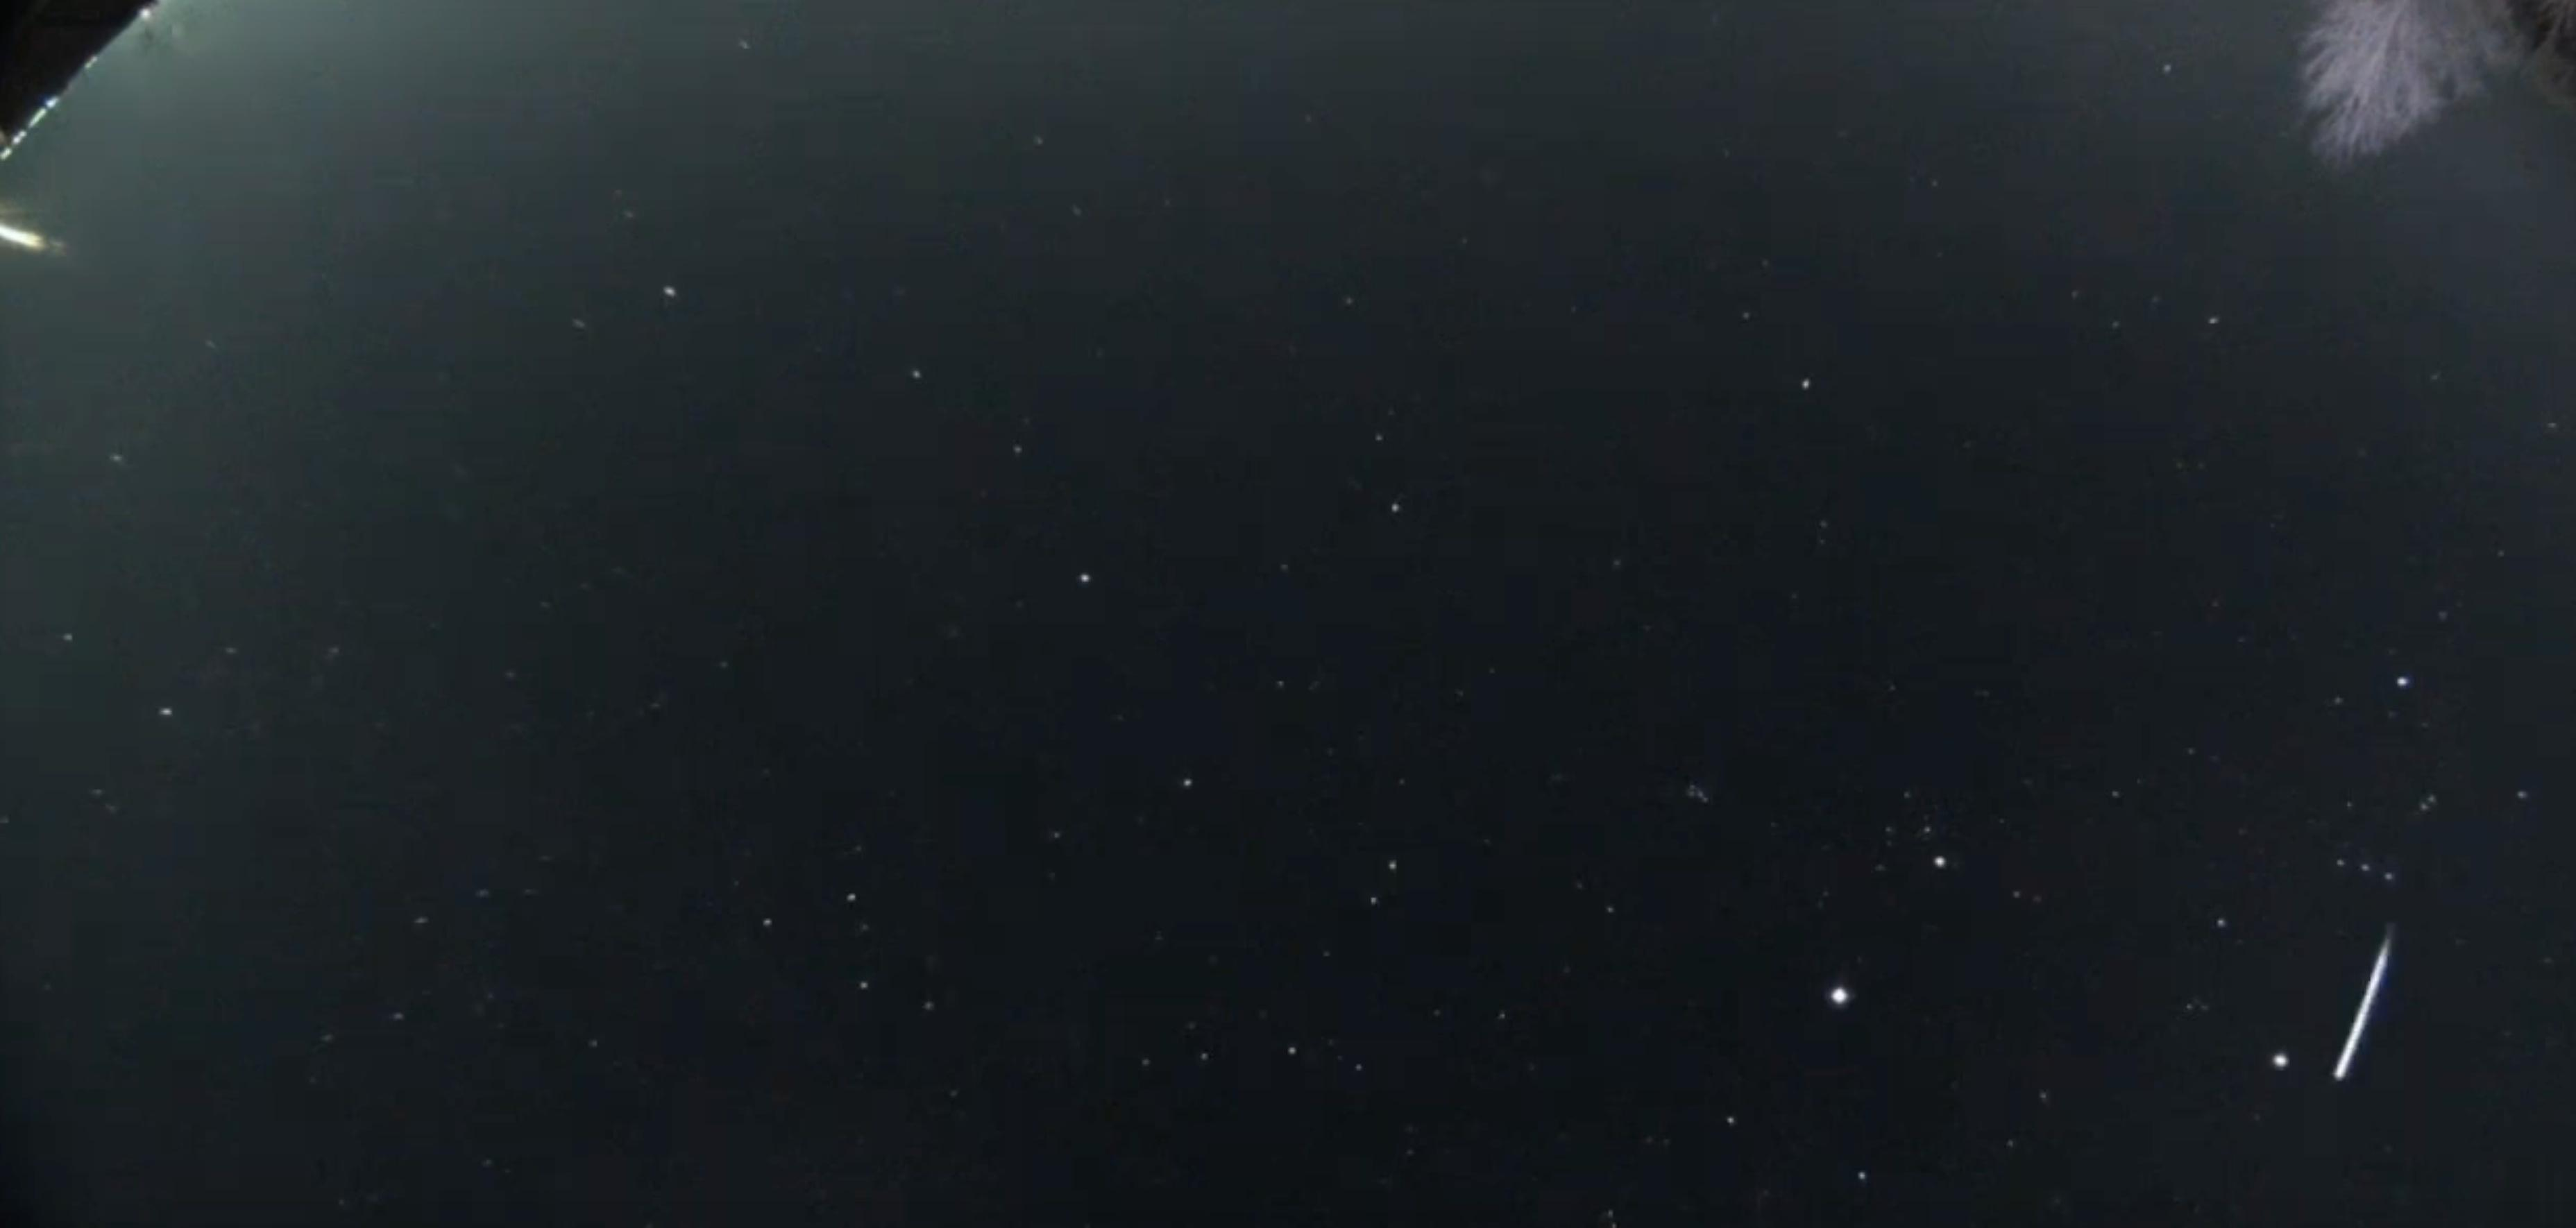meteorite: (2293, 890, 2451, 1108)
